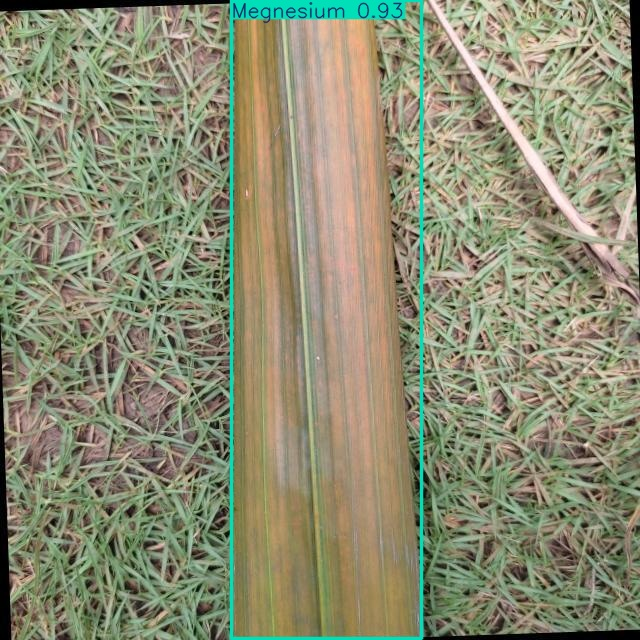Megnesium: (231, 1, 421, 639)
